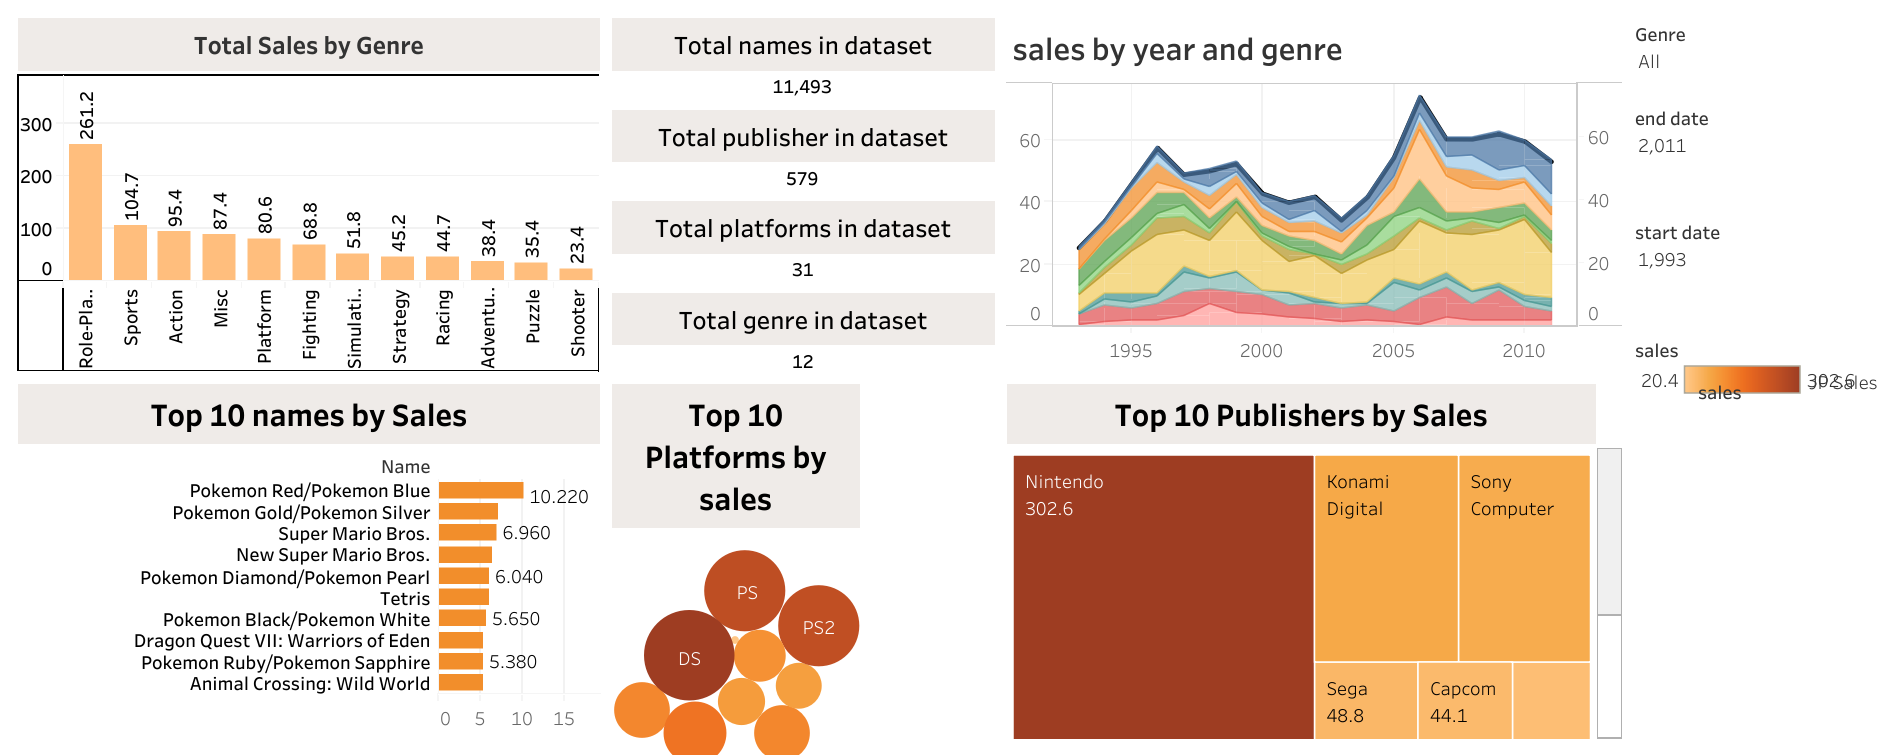

What the dashboard file says about the page in this screenshot:
{"tool":"tableau","page":{"name":"Dashboard 1","canvas":[1000,1000],"units":"permille","ordinal":0},"visuals":[{"type":"worksheet","title":"Total Sales by Genre","mark":"Automatic","rows":["Calculation_1077486248184836096"],"cols":["Genre"],"box":[4.9,9.8,328,490.2]},{"type":"worksheet","title":"Total names in dataset","mark":"Automatic","box":[332.9,9.8,217.7,122.5]},{"type":"worksheet","title":"sales by year and genre","mark":"Automatic","rows":["Calculation_1077486248184836096","Calculation_1077486248184836096"],"cols":["Year"],"box":[550.6,9.8,346.4,490.2]},{"type":"filter","title":"sales by year and genre","param":"[federated.1gzxugc11jc3b213qvnbn1fzv9oz].[none:Genre:nk]","box":[897,9.8,98.1,85.6]},{"type":"parameter","param":"[Parameters].[Parameter 3]","box":[897,95.4,98.1,101.5]},{"type":"worksheet","title":"Total publisher in dataset","mark":"Automatic","box":[332.9,132.3,217.7,122.5]},{"type":"parameter","param":"[Parameters].[Parameter 2]","box":[897,196.8,98.1,101.5]},{"type":"worksheet","title":"Total platforms in dataset","mark":"Automatic","box":[332.9,254.9,217.7,122.6]},{"type":"legend","title":"Top 10 Publishers by Sales","param":"[federated.1gzxugc11jc3b213qvnbn1fzv9oz].[sum:Calculation_1077486248184836096:qk","box":[897,298.3,98.1,99]},{"type":"worksheet","title":"Total genre in dataset","mark":"Automatic","box":[332.9,377.4,217.7,122.6]},{"type":"parameter","param":"[Parameters].[Parameter 1]","box":[902.5,485.3,98.1,63.6]},{"type":"worksheet","title":"Top 10 names by Sales","mark":"Automatic","rows":["Name"],"cols":["Calculation_1077486248184836096"],"box":[4.9,500,328,490.2]},{"type":"worksheet","title":"Top 10 Platforms by sales","mark":"Circle","box":[332.9,500,217.7,490.2]},{"type":"worksheet","title":"Top 10 Publishers by Sales","mark":"Automatic","box":[550.6,500,346.4,490.2]}]}

Visuals, with their boxes on the dashboard's canvas, which has no fixed pixel size, in thousandths of its width and height (x1, y1, x2, y2). These are canvas units, not pixel positions in the 1880x755 screenshot, which may show the page scaled, cropped or inside an application window:
"Total Sales by Genre" worksheet: rect(5, 10, 333, 500)
"Total names in dataset" worksheet: rect(333, 10, 551, 132)
"sales by year and genre" worksheet: rect(551, 10, 897, 500)
"sales by year and genre" filter: rect(897, 10, 995, 95)
parameter: rect(897, 95, 995, 197)
"Total publisher in dataset" worksheet: rect(333, 132, 551, 255)
parameter: rect(897, 197, 995, 298)
"Total platforms in dataset" worksheet: rect(333, 255, 551, 378)
"Top 10 Publishers by Sales" legend: rect(897, 298, 995, 397)
"Total genre in dataset" worksheet: rect(333, 377, 551, 500)
parameter: rect(902, 485, 1001, 549)
"Top 10 names by Sales" worksheet: rect(5, 500, 333, 990)
"Top 10 Platforms by sales" worksheet (Circle marks): rect(333, 500, 551, 990)
"Top 10 Publishers by Sales" worksheet: rect(551, 500, 897, 990)
